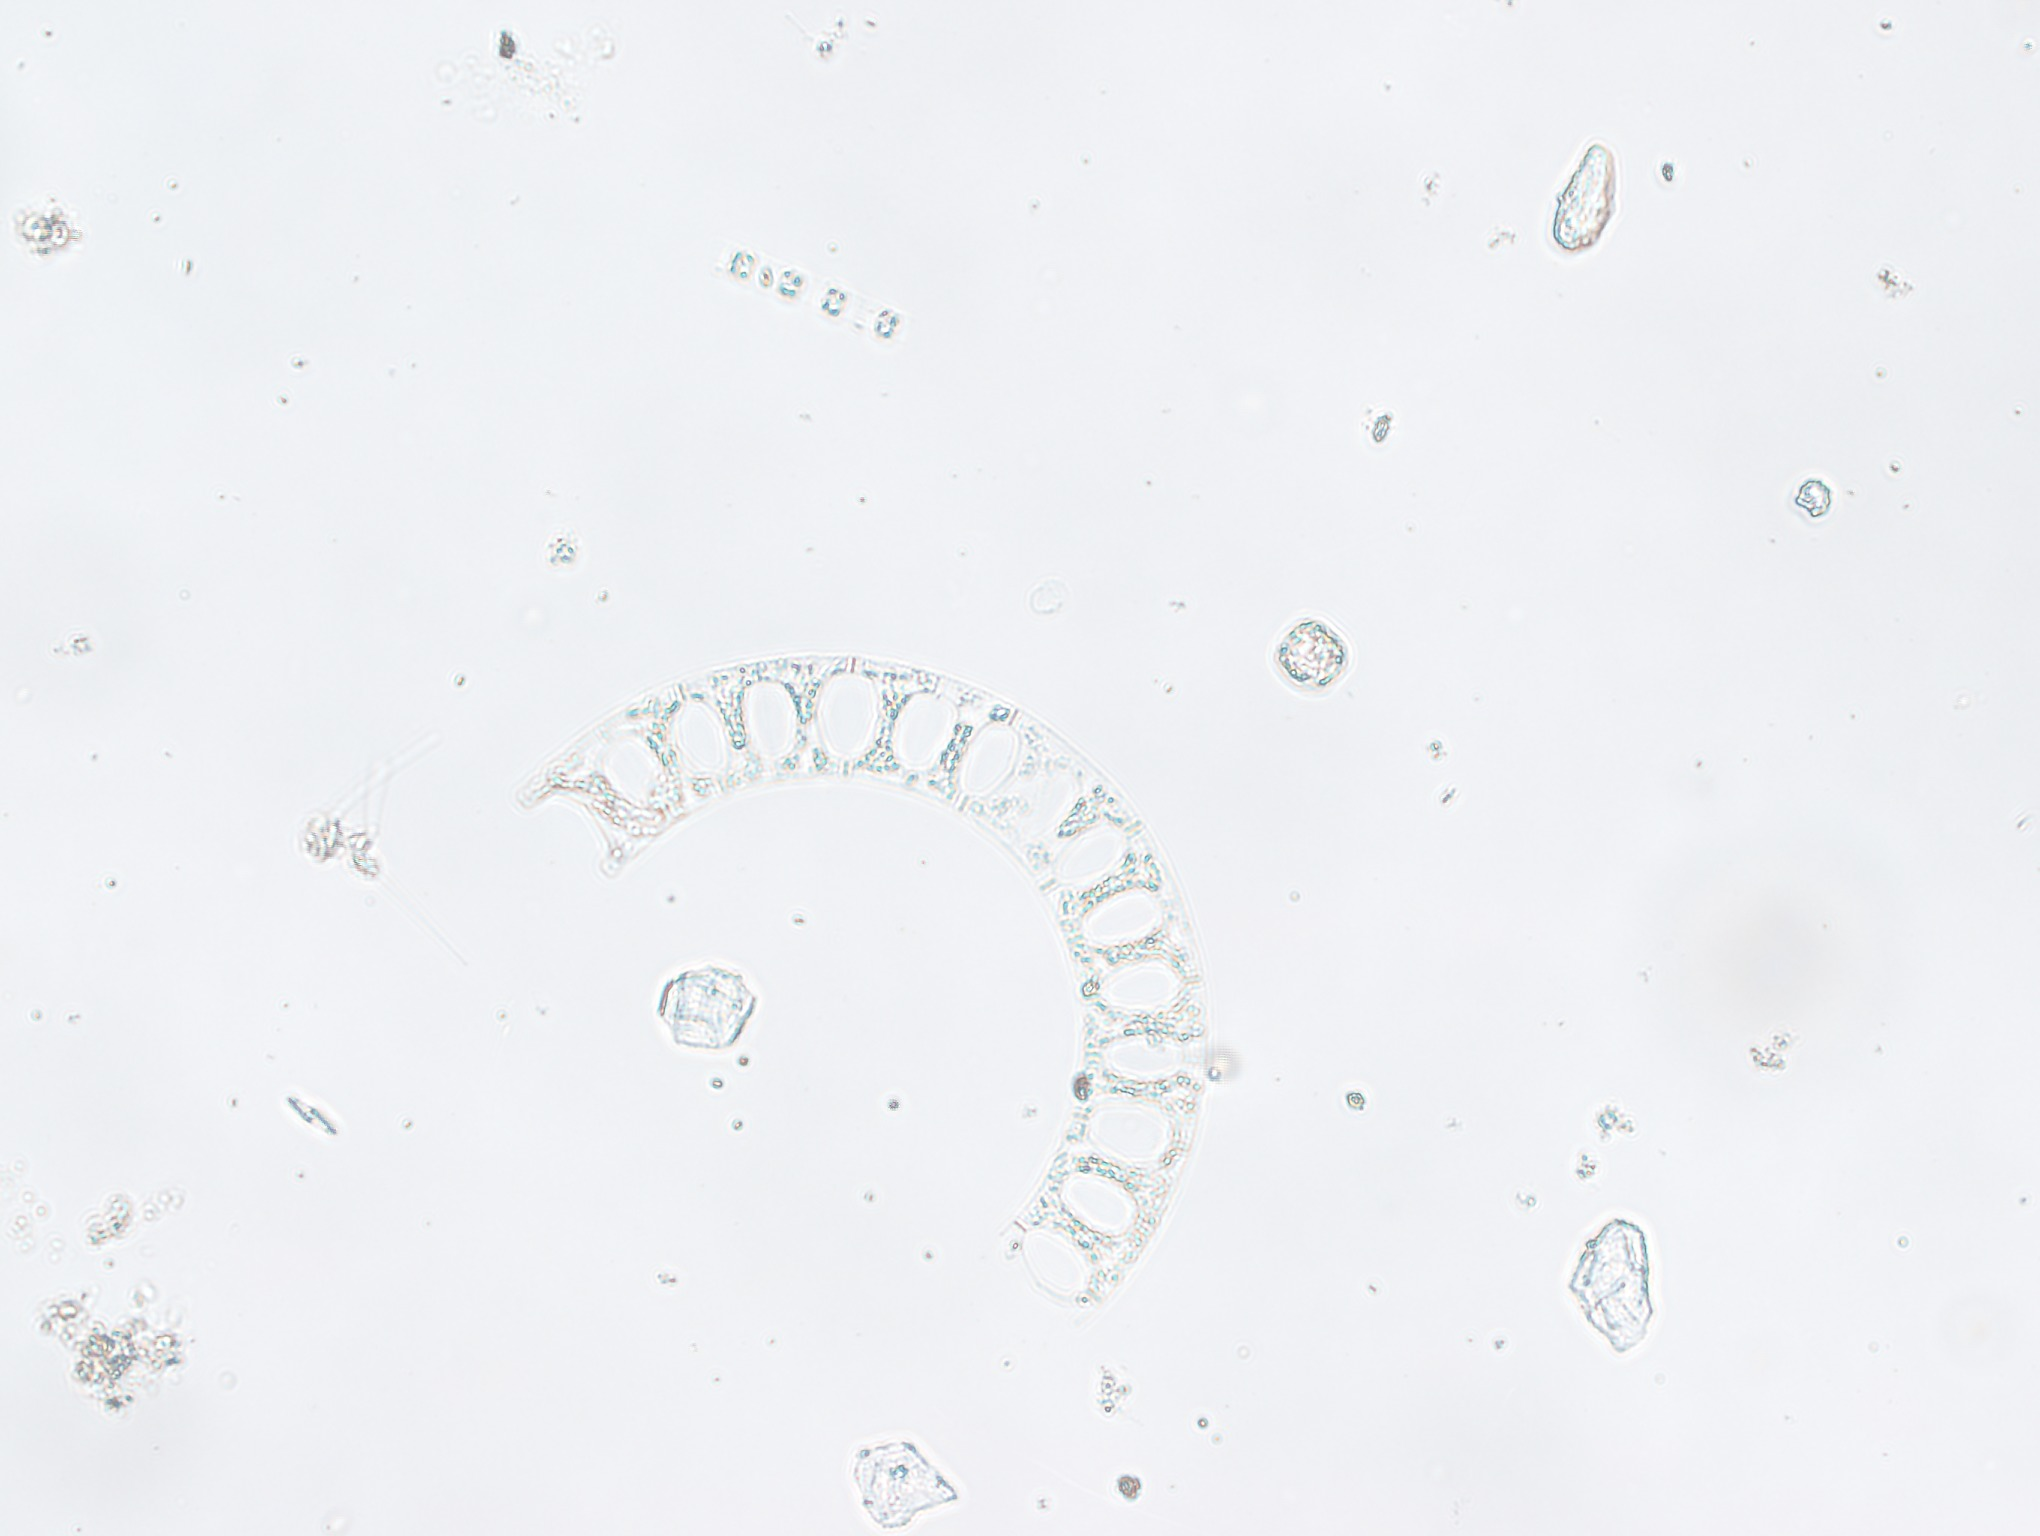eucampia: (516, 629, 1222, 1334)
skeletonema: (722, 244, 911, 349)
